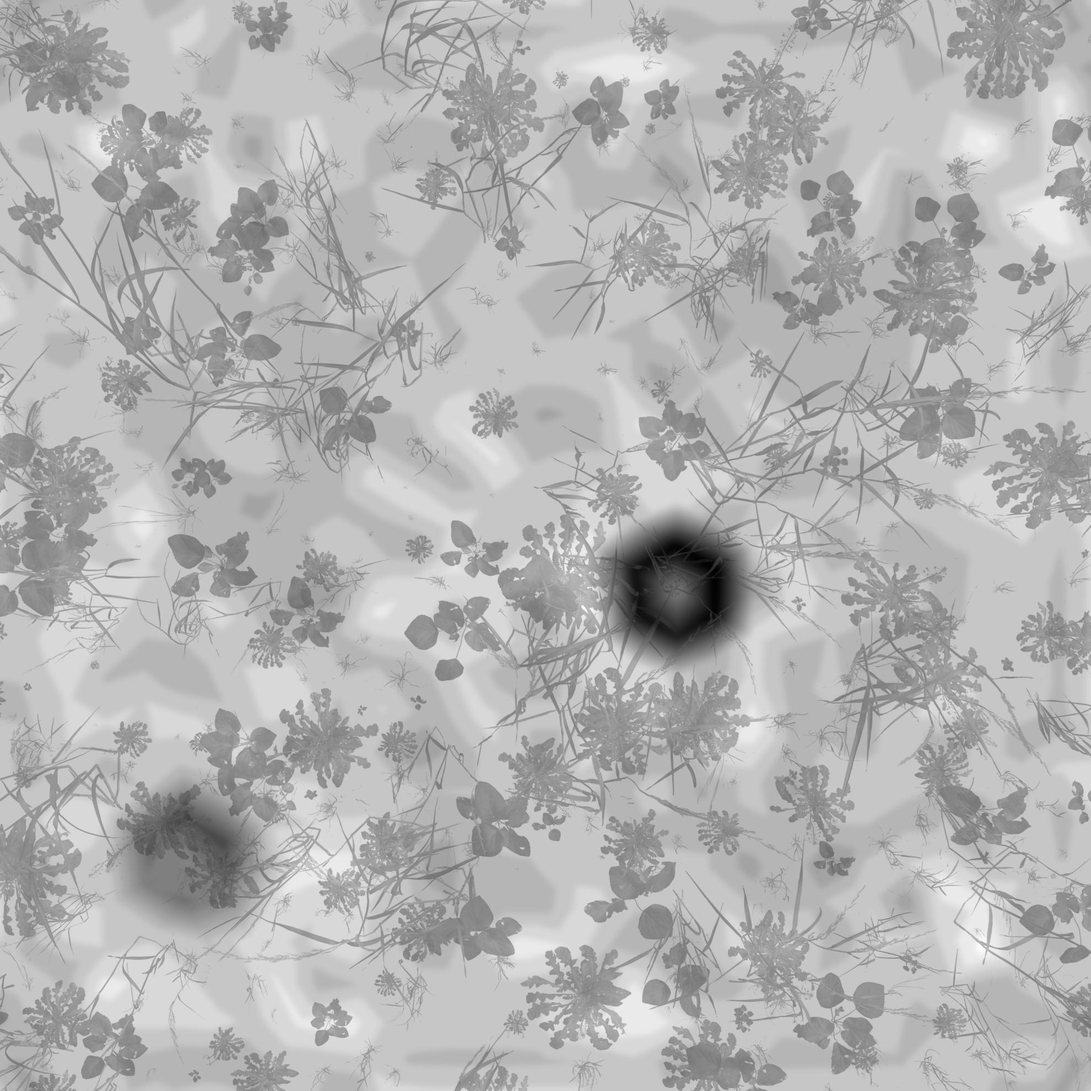landmine: (600, 511, 758, 658), (110, 788, 258, 931)
